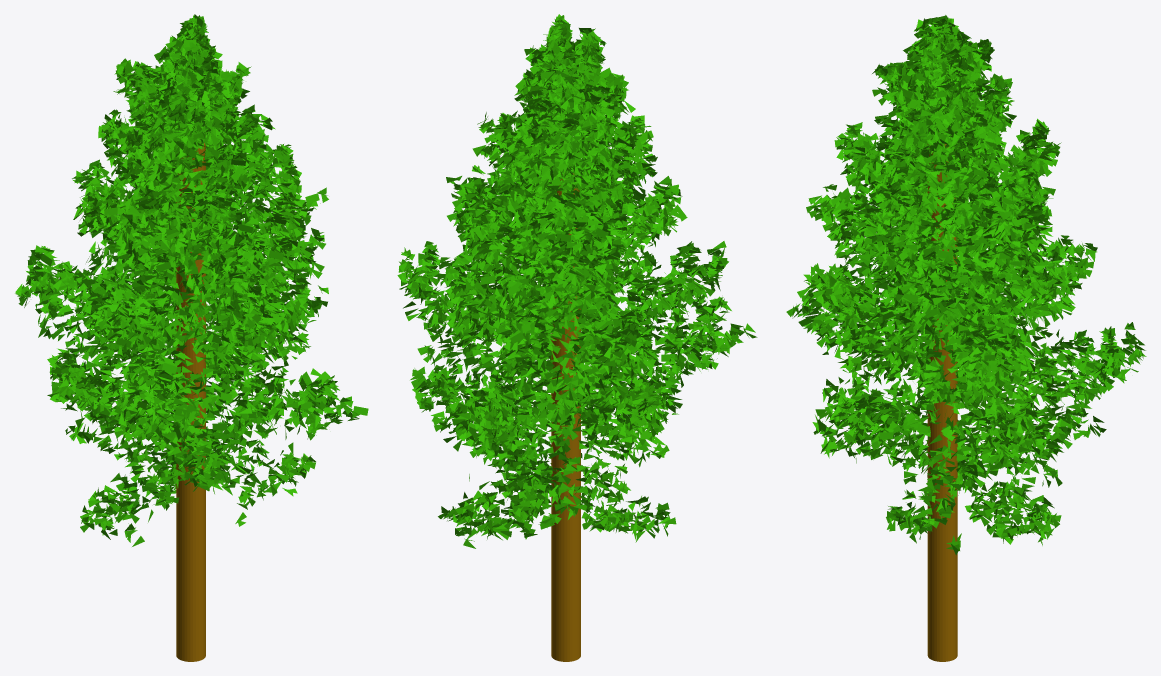
Rendered from Tree2.glb.
3 views of the same model, side by side, from view 1: azimuth 30°, elevation 25°; view 2: azimuth 150°, elevation 25°; view 3: azimuth 270°, elevation 25° (orthographic).
Parts seen in each view (by area): view 1: leaves.17211; view 2: leaves.17211; view 3: leaves.17211.
Boxes of the visible parts, x1,y1,x2,y2 form: leaves.17211: (15, 14, 368, 661); leaves.17211: (397, 14, 757, 661); leaves.17211: (786, 15, 1146, 661).
Bounding box in the file's own units: 7.66 × 16.35 × 8.31.
